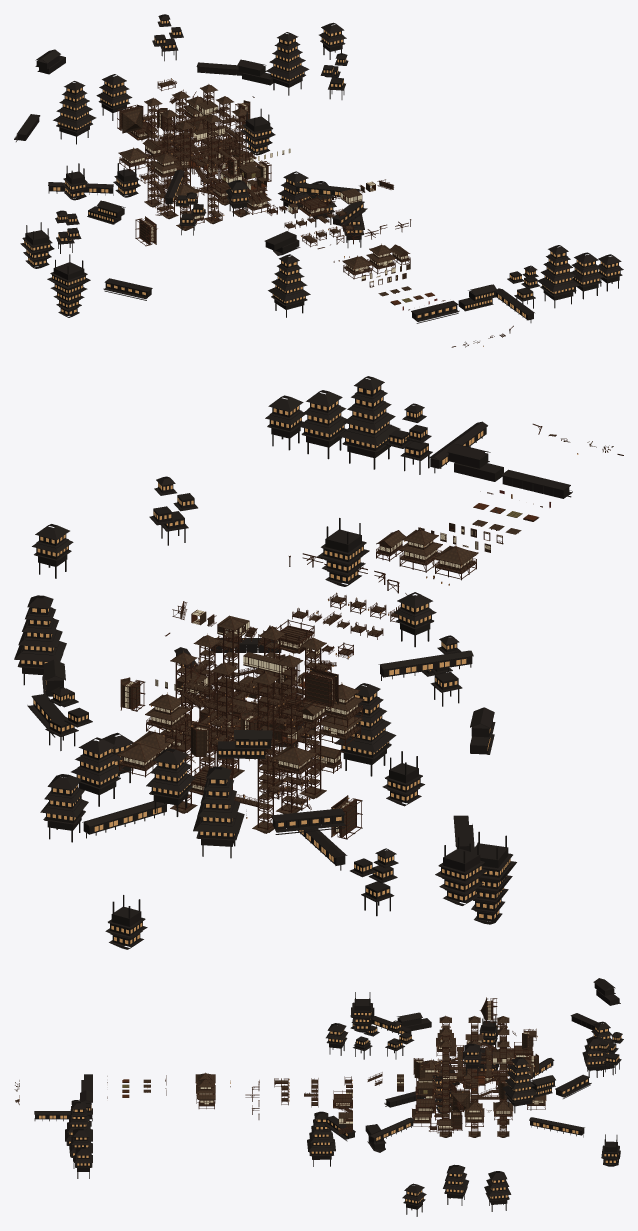
Rendered from infinity_castle_asset_library.glb.
3 renders of one model, top to bottom at view 1: azimuth 30°, elevation 25°; view 2: azimuth 150°, elevation 25°; view 3: azimuth 270°, elevation 25°, orthographic. The views are drawn at different scales.
Parts seen in each view (by area): view 1: IC12_Central_Abyss_Cluster, IC12_BG_171__Mesh, IC12_BG_157__Mesh, IC12_BG_164__Mesh, IC12_BG_178__Mesh, IC19_BG_Tower_L__Mesh, IC12_BG_163__Mesh, IC12_BG_177__Mesh, IC12_BG_170__Mesh, IC19_BG_Tower_M__Mesh, IC12_BG_156__Mesh, IC19_BG_Suspended_Cluster__Mesh (+28 smaller); view 2: IC12_Central_Abyss_Cluster, IC19_BG_Tower_L__Mesh, IC12_BG_164__Mesh, IC12_BG_157__Mesh, IC12_BG_178__Mesh, IC12_BG_171__Mesh, IC12_BG_170__Mesh, IC12_BG_177__Mesh, IC12_BG_163__Mesh, IC12_BG_184__Mesh, IC19_BG_Tower_M__Mesh, IC12_BG_156__Mesh (+28 smaller); view 3: IC12_Central_Abyss_Cluster, IC12_BG_157__Mesh, IC12_BG_178__Mesh, IC12_BG_156__Mesh, IC12_BG_184__Mesh, IC12_BG_177__Mesh, IC19_BG_Tower_L__Mesh, IC12_BG_163__Mesh, IC12_BG_160__Mesh, IC12_BG_161__Mesh, IC12_BG_183__Mesh, IC12_BG_176__Mesh (+17 smaller).
Part boxes in pixels (x1=…): IC12_Central_Abyss_Cluster: x1=144, y1=84, x2=250, y2=230; IC12_BG_171__Mesh: x1=47, y1=254, x2=90, y2=317; IC12_BG_157__Mesh: x1=265, y1=32, x2=309, y2=95; IC12_BG_164__Mesh: x1=53, y1=81, x2=96, y2=144; IC12_BG_178__Mesh: x1=268, y1=254, x2=310, y2=317; IC19_BG_Tower_L__Mesh: x1=537, y1=245, x2=579, y2=308; IC12_BG_163__Mesh: x1=96, y1=74, x2=132, y2=120; IC12_BG_177__Mesh: x1=240, y1=108, x2=275, y2=155; IC12_BG_170__Mesh: x1=20, y1=222, x2=54, y2=268; IC19_BG_Tower_M__Mesh: x1=571, y1=252, x2=603, y2=299; IC12_BG_156__Mesh: x1=278, y1=171, x2=308, y2=218; IC19_BG_Suspended_Cluster__Mesh: x1=507, y1=265, x2=539, y2=308; IC12_Central_Abyss_Cluster: x1=170, y1=616, x2=326, y2=833; IC19_BG_Tower_L__Mesh: x1=338, y1=376, x2=400, y2=469; IC12_BG_164__Mesh: x1=193, y1=766, x2=244, y2=858; IC12_BG_157__Mesh: x1=14, y1=595, x2=66, y2=685; IC12_BG_178__Mesh: x1=334, y1=683, x2=396, y2=776; IC12_BG_171__Mesh: x1=469, y1=831, x2=516, y2=924; IC12_BG_170__Mesh: x1=435, y1=836, x2=488, y2=905; IC12_BG_177__Mesh: x1=317, y1=518, x2=369, y2=586; IC12_BG_163__Mesh: x1=146, y1=748, x2=195, y2=816; IC12_BG_184__Mesh: x1=71, y1=737, x2=124, y2=806; IC19_BG_Tower_M__Mesh: x1=298, y1=390, x2=346, y2=459; IC12_BG_156__Mesh: x1=40, y1=774, x2=88, y2=842; IC12_Central_Abyss_Cluster: x1=439, y1=1015, x2=509, y2=1137; IC12_BG_157__Mesh: x1=502, y1=1057, x2=537, y2=1113; IC12_BG_178__Mesh: x1=307, y1=1111, x2=335, y2=1166; IC12_BG_156__Mesh: x1=484, y1=1171, x2=511, y2=1211; IC12_BG_184__Mesh: x1=443, y1=1164, x2=468, y2=1205; IC12_BG_177__Mesh: x1=350, y1=992, x2=374, y2=1032; IC19_BG_Tower_L__Mesh: x1=65, y1=1101, x2=92, y2=1156; IC12_BG_163__Mesh: x1=582, y1=1037, x2=606, y2=1076; IC12_BG_160__Mesh: x1=529, y1=1117, x2=584, y2=1137; IC12_BG_161__Mesh: x1=596, y1=1032, x2=623, y2=1073; IC12_BG_183__Mesh: x1=402, y1=1183, x2=426, y2=1216; IC12_BG_176__Mesh: x1=326, y1=1023, x2=348, y2=1055.
Size of the model in its own units: 211 by 122 by 340.
Materials: 12 (8 with a texture image).
